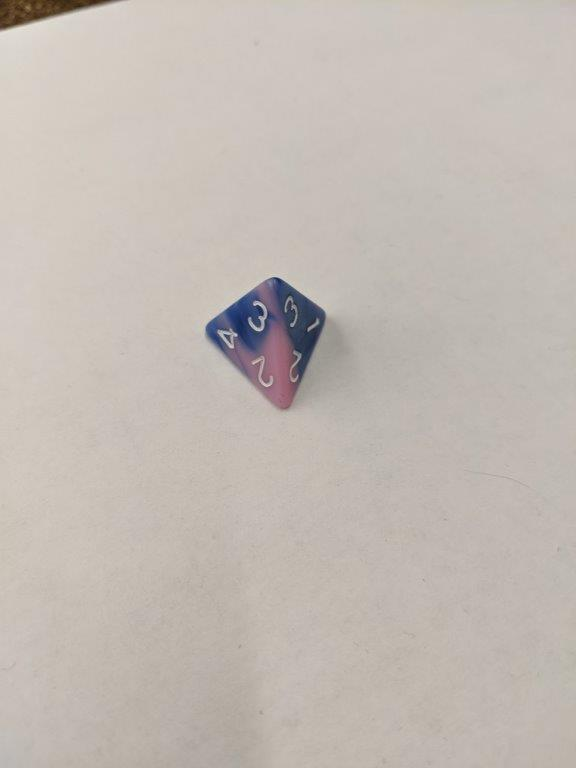d4-3: (201, 274, 328, 413)
